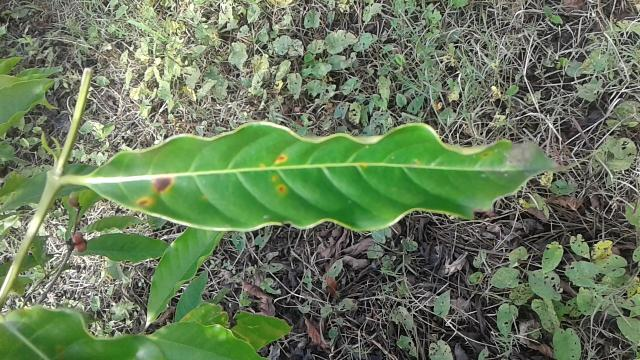rust_level_1: (62, 124, 570, 232)
